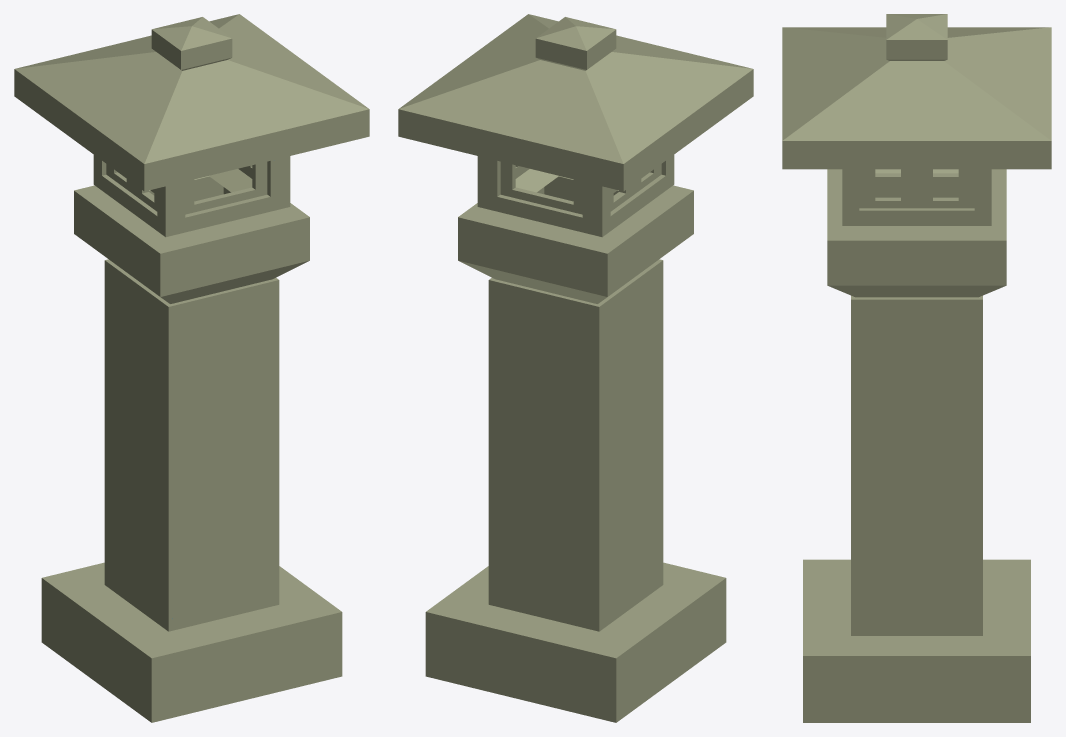
Rendered from Pagoda.glb.
3 renders of one model, left to right at view 1: azimuth 30°, elevation 25°; view 2: azimuth 150°, elevation 25°; view 3: azimuth 270°, elevation 25°, orthographic. The views are drawn at different scales.
Parts seen in each view (by area): view 1: Pagoda; view 2: Pagoda; view 3: Pagoda.
Part boxes in pixels (box(x1,y1,x2,y2)): Pagoda: box(14, 14, 369, 722); Pagoda: box(398, 14, 753, 722); Pagoda: box(782, 14, 1051, 722).
Size of what is drawn, in the model's own units: 0.5682 by 1.53 by 0.5682.
Materials: 1 (1 with a texture image).
